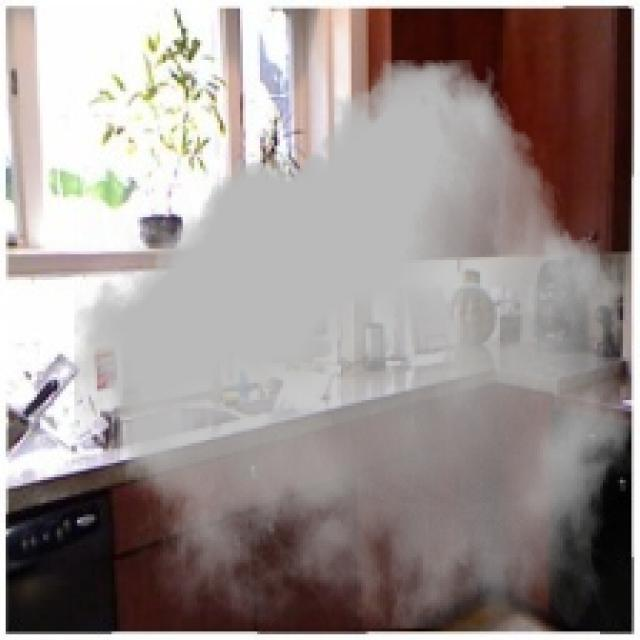Smoke: (75, 60, 634, 629)
